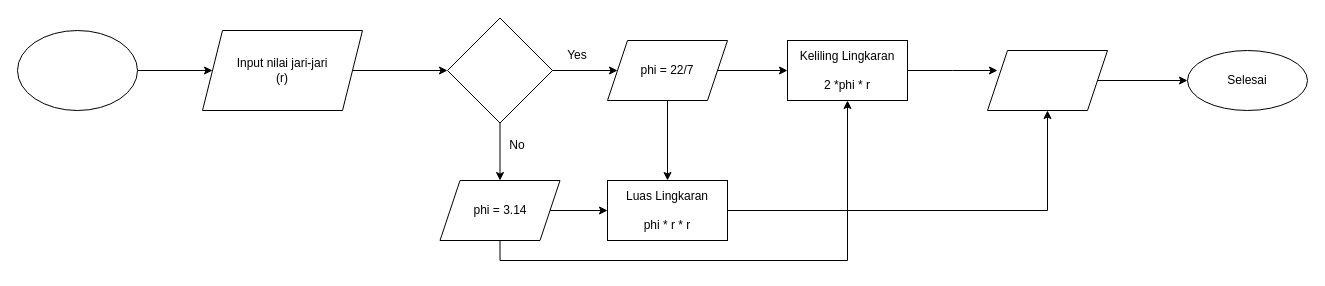
Some shapes in this 1325 by 286 pixel diagram are drawn without their labels. The shapes that lost their labels are listed below. From the top down, each one's centre as x and y in pixels, then its label:
pixel 77 70: Mulai
pixel 499 70: r / 7 == 0 ?
pixel 1047 80: print nilai luas dan keliling
